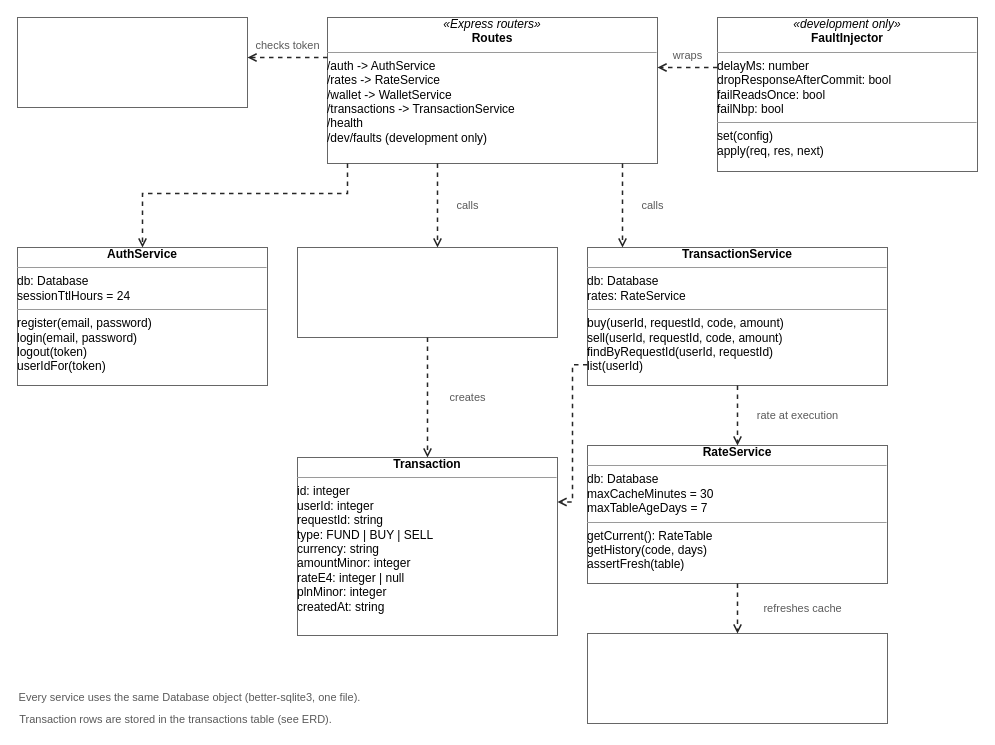
The diagram is 995 pixels wide and 745 high, and some of its shapes have lost their labels. Here are the shapes that lost their labels. From the top down, the centre of each, then its label:
At (132,62): "AuthMiddleware sessions table via db requireUser(req): userId reject(res): 401".
At (427,292): "WalletService db: Database getWallet(userId) fund(userId, requestId, amount)".
At (737,678): "NbpClient baseUrl = api.nbp.pl/api fetchTableC() fetchHistory(code, from, to)".
